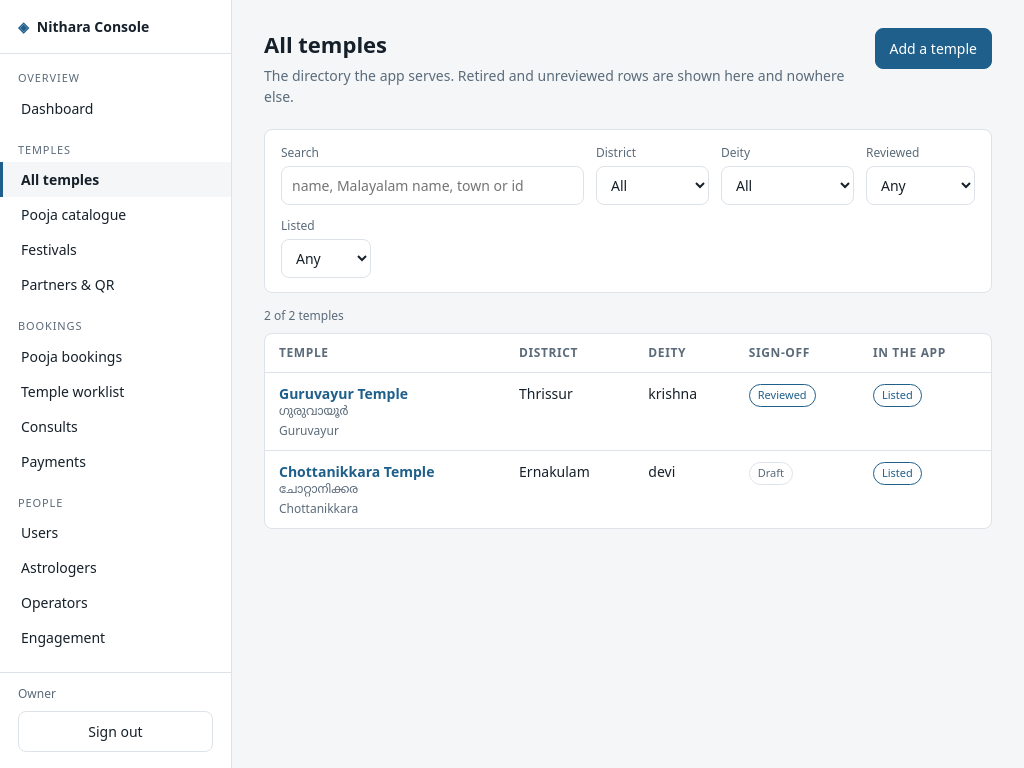
Scenario: the directory list › narrows on a district
Expected: the link "Guruvayur Temple" is shown, [279,384,408,403]
Select "Ernakulam" in the dropdown labelled "District": (652, 186) [596,166,709,205]
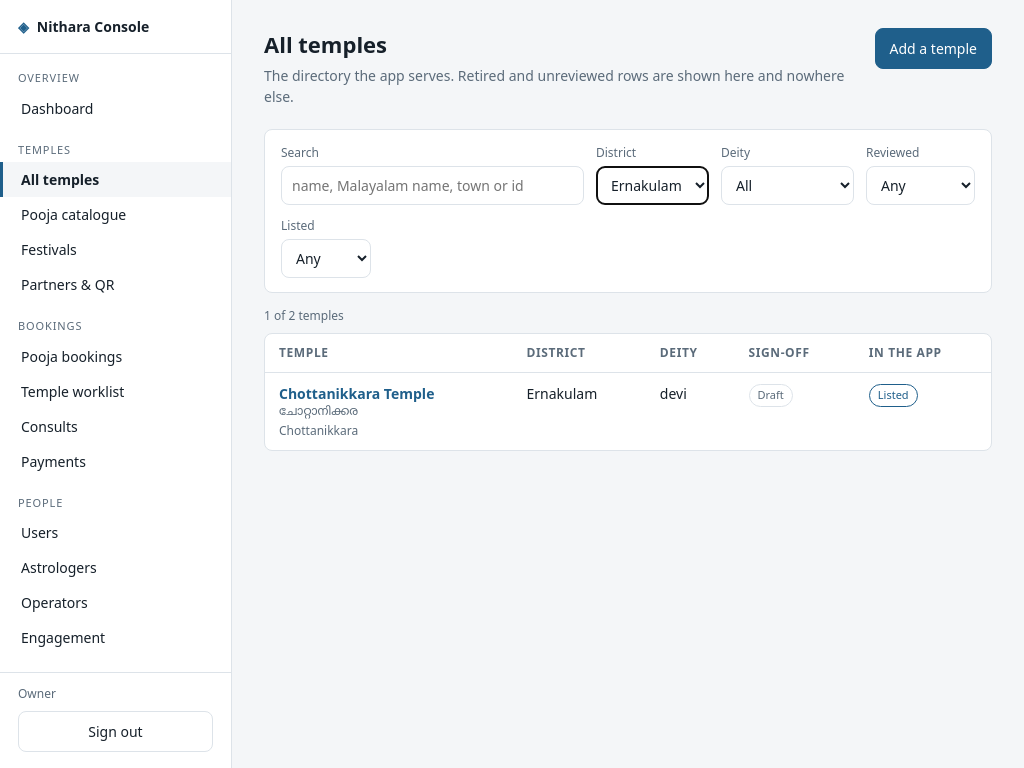
Expected: the link "Chottanikkara Temple" is shown, [279,384,434,403]
Now the link "Guruvayur Temple" is gone
